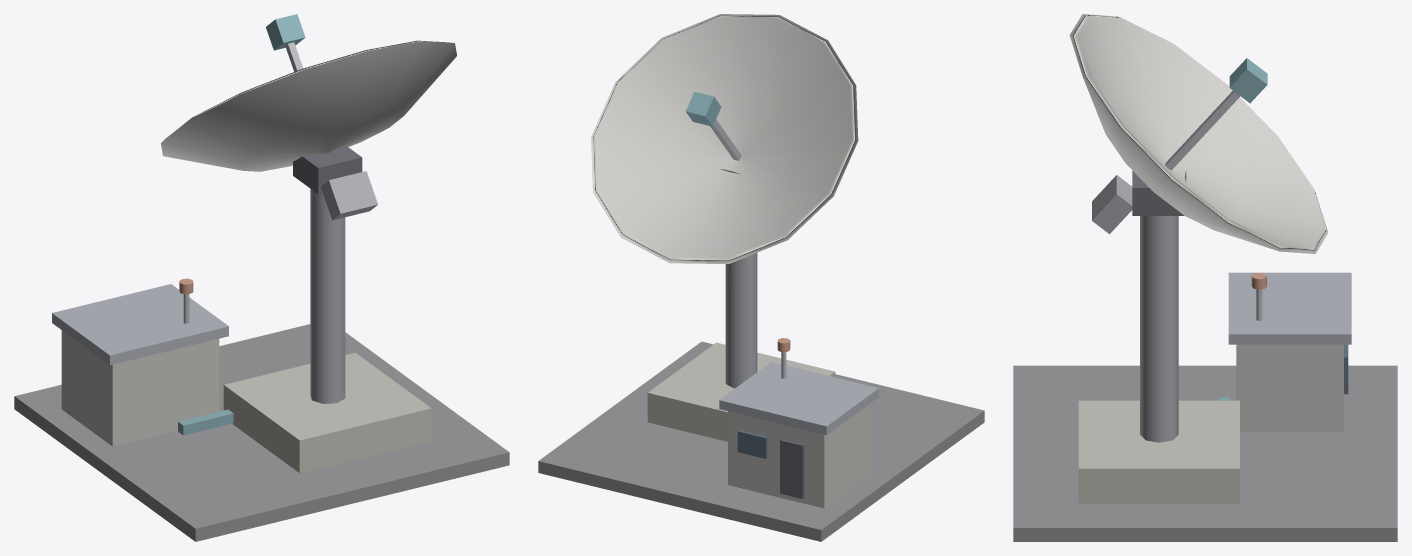
Rendered from kind-relay-station.glb.
3 views of the same model, side by side, from view 1: azimuth 30°, elevation 25°; view 2: azimuth 150°, elevation 25°; view 3: azimuth 270°, elevation 25° (orthographic). The views are drawn at different scales.
Visible parts, largest first — view 1: kind-relay-station; view 2: kind-relay-station; view 3: kind-relay-station.
Boxes of the visible parts, x1,y1,x2,y2 form: kind-relay-station: [14, 14, 509, 541]; kind-relay-station: [538, 14, 984, 541]; kind-relay-station: [1013, 14, 1397, 541].
Bounding box in the file's own units: 1.07 × 1.29 × 1.
